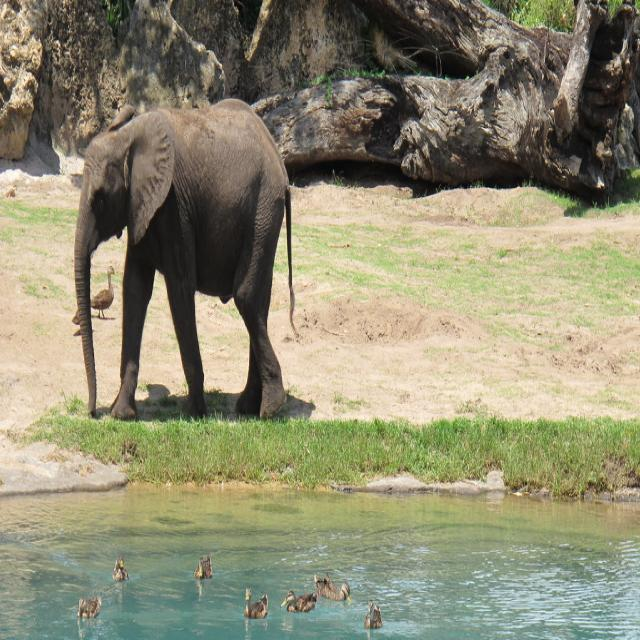elephant: (69, 89, 295, 422)
